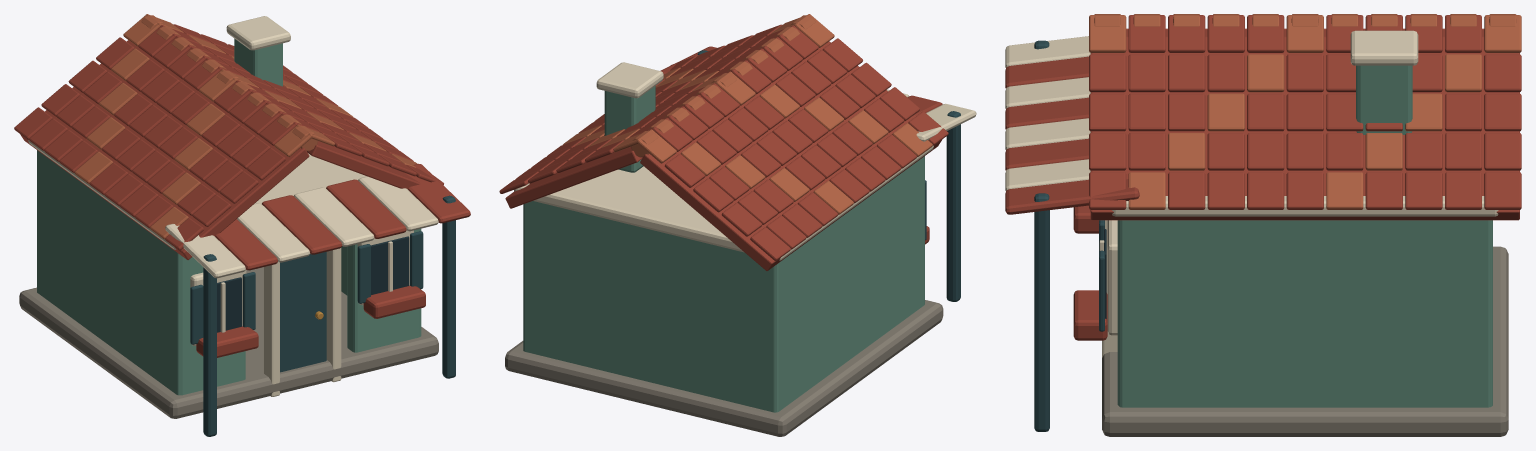
Rendered from almacen_runtime.glb.
3 renders of one model, left to right at view 1: azimuth 30°, elevation 25°; view 2: azimuth 150°, elevation 25°; view 3: azimuth 270°, elevation 25°, orthographic. The views are drawn at different scales.
Parts seen in each view (by area): view 1: Roof_BakedPalette.004, Details.001, Walls_BakedPalette.004, Foundation_BakedPalette.004, OpeningDoor; view 2: Walls_BakedPalette.004, Roof_BakedPalette.004, Foundation_BakedPalette.004, Details.001; view 3: Roof_BakedPalette.004, Walls_BakedPalette.004, Details.001, Foundation_BakedPalette.004.
Boxes of the visible parts, x1,y1,x2,y2 form: Roof_BakedPalette.004: (14, 14, 443, 259); Details.001: (165, 163, 470, 436); Walls_BakedPalette.004: (28, 140, 421, 395); Foundation_BakedPalette.004: (19, 267, 438, 418); OpeningDoor: (280, 252, 325, 372); Walls_BakedPalette.004: (514, 145, 933, 412); Roof_BakedPalette.004: (499, 14, 948, 270); Foundation_BakedPalette.004: (505, 300, 943, 436); Details.001: (660, 46, 976, 301); Roof_BakedPalette.004: (1089, 14, 1521, 220); Walls_BakedPalette.004: (1112, 196, 1498, 407); Details.001: (1005, 36, 1139, 431); Foundation_BakedPalette.004: (1102, 246, 1508, 436).
Bounding box in the file's own units: 3.6 × 3.42 × 4.57.
